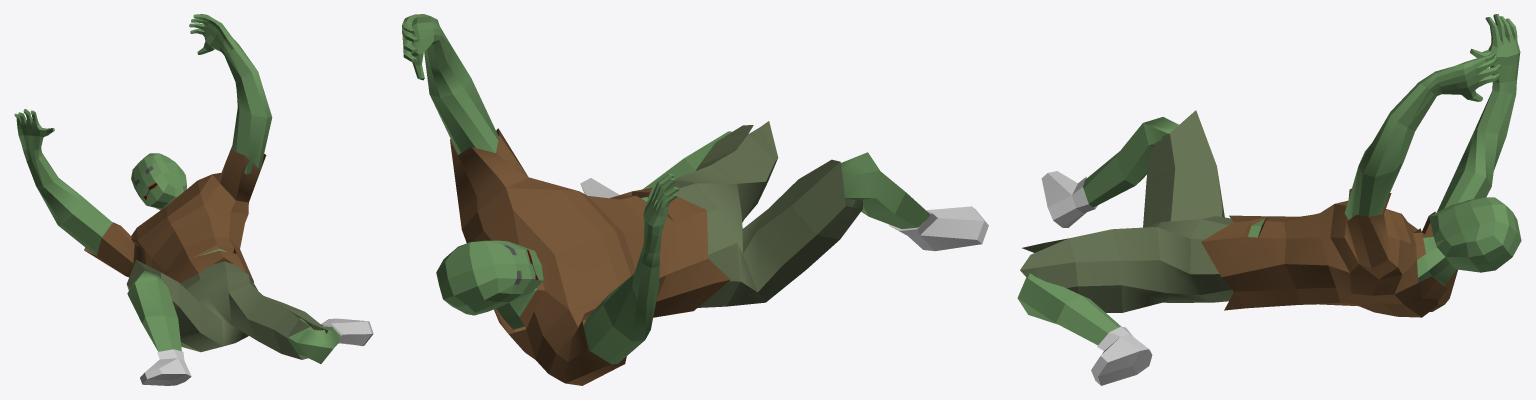
Rendered from ZombieDead(52).obj.
3 views of the same model, side by side, from view 1: azimuth 30°, elevation 25°; view 2: azimuth 150°, elevation 25°; view 3: azimuth 270°, elevation 25° (orthographic). The views are drawn at different scales.
Parts seen in each view (by area): view 1: Object001; view 2: Object001; view 3: Object001.
Boxes of the visible parts, x1,y1,x2,y2 form: Object001: (14, 14, 373, 385); Object001: (402, 14, 988, 385); Object001: (1017, 14, 1521, 385).
Size of the model in its own units: 34.73 by 31.8 by 45.47.
